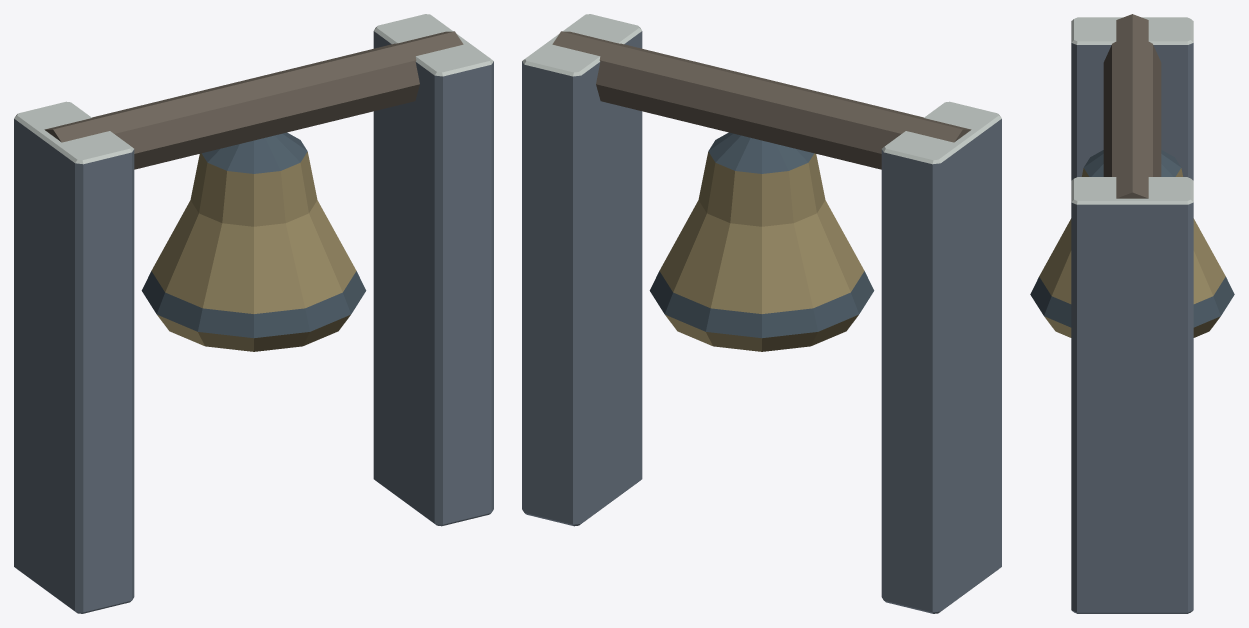
File: bell-arch.glb
The picture shows the model from 3 angles, left to right: view 1: azimuth 30°, elevation 25°; view 2: azimuth 150°, elevation 25°; view 3: azimuth 270°, elevation 25°; orthographic projection. The views are drawn at different scales.
Parts seen in each view (by area): view 1: bell-arch__body; view 2: bell-arch__body; view 3: bell-arch__body.
Part boxes in pixels (x1,y1,x2,y2): bell-arch__body: (14,14,493,613); bell-arch__body: (522,14,1001,613); bell-arch__body: (1030,14,1234,613).
Size of the model in its own units: 1.98 by 2.08 by 0.92.
